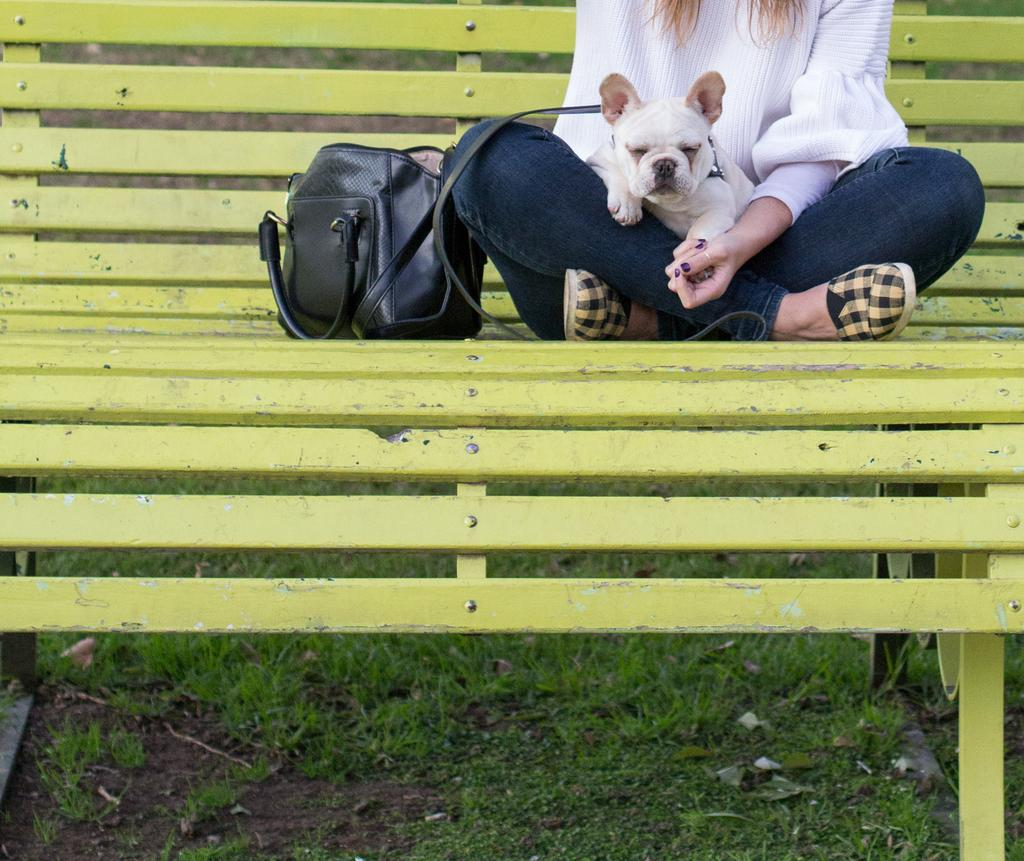Luggage-and-bags: (266, 120, 502, 341)
